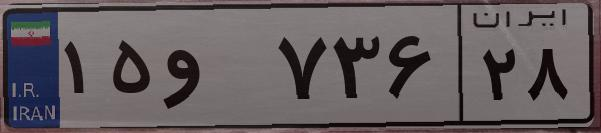1: (57, 26, 110, 100)
2: (475, 38, 525, 113)
3: (330, 28, 385, 110)
5: (110, 28, 158, 98)
6: (385, 28, 445, 110)
7: (270, 28, 330, 110)
8: (525, 38, 570, 115)
و: (158, 20, 270, 120)
